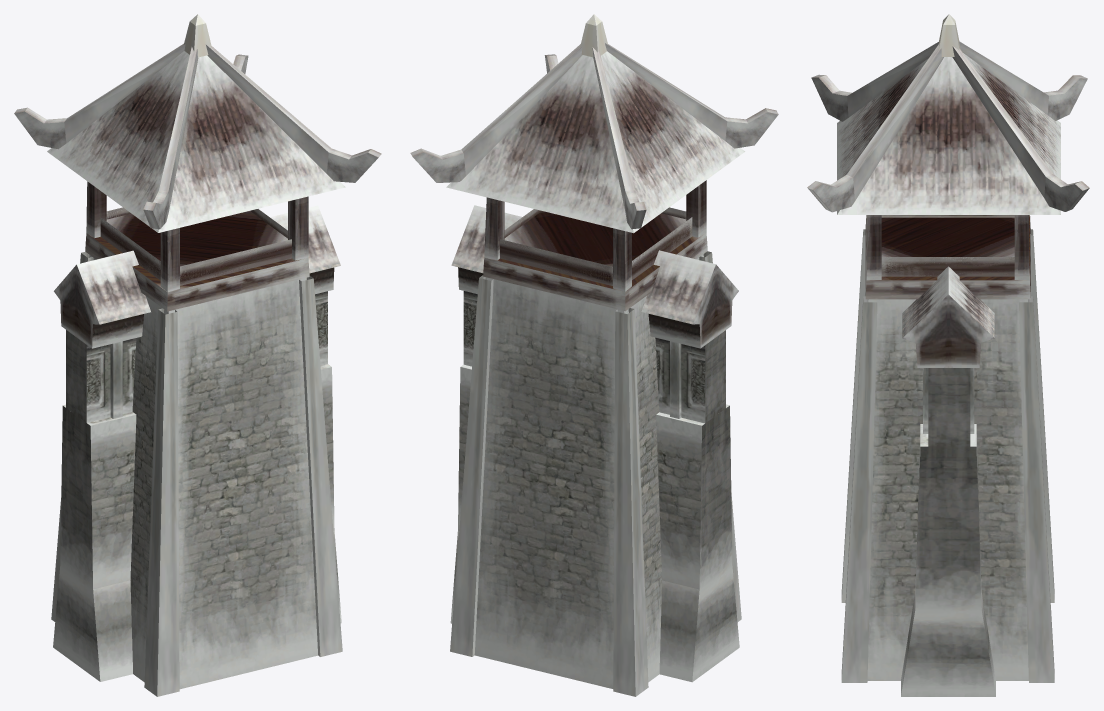
Rendered from snow-middledam-07_lod_01.fbx.
3 renders of one model, left to right at view 1: azimuth 30°, elevation 25°; view 2: azimuth 150°, elevation 25°; view 3: azimuth 270°, elevation 25°, orthographic.
Visible parts, largest first — view 1: snow_middledam-03, snow-middledam-02, snow-middledam-04; view 2: snow_middledam-03, snow-middledam-02, snow-middledam-04; view 3: snow_middledam-03, snow-middledam-02, snow-middledam-04.
Boxes of the visible parts, x1,y1,x2,y2 form: snow_middledam-03: [47, 14, 345, 696]; snow-middledam-02: [53, 205, 341, 681]; snow-middledam-04: [14, 43, 381, 311]; snow_middledam-03: [446, 14, 744, 696]; snow-middledam-02: [450, 205, 739, 682]; snow-middledam-04: [410, 43, 778, 311]; snow_middledam-03: [837, 14, 1060, 682]; snow-middledam-02: [901, 266, 995, 696]; snow-middledam-04: [807, 41, 1089, 299].
Size of the model in its own units: 5 by 12.29 by 5.05.
